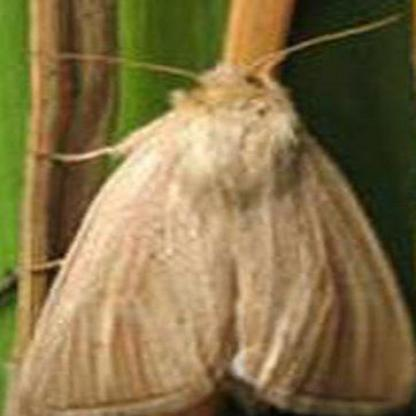stem-borer: (12, 13, 416, 415)
